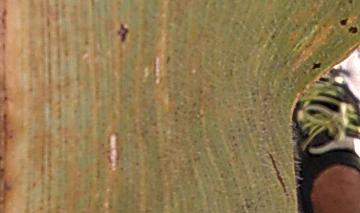tarspot: (266, 150, 287, 192), (117, 22, 128, 42), (339, 17, 349, 27), (311, 61, 321, 70), (348, 25, 357, 34), (165, 54, 171, 64), (270, 32, 276, 40), (348, 1, 354, 5)
